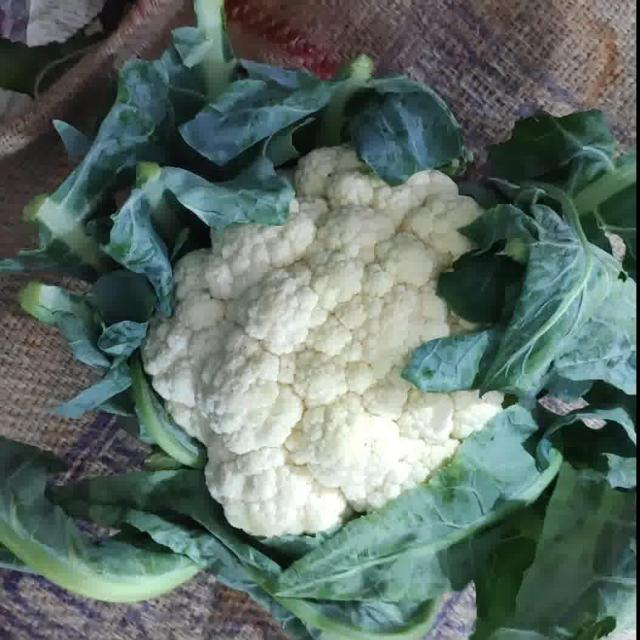Cauliflower: (141, 146, 502, 539)
